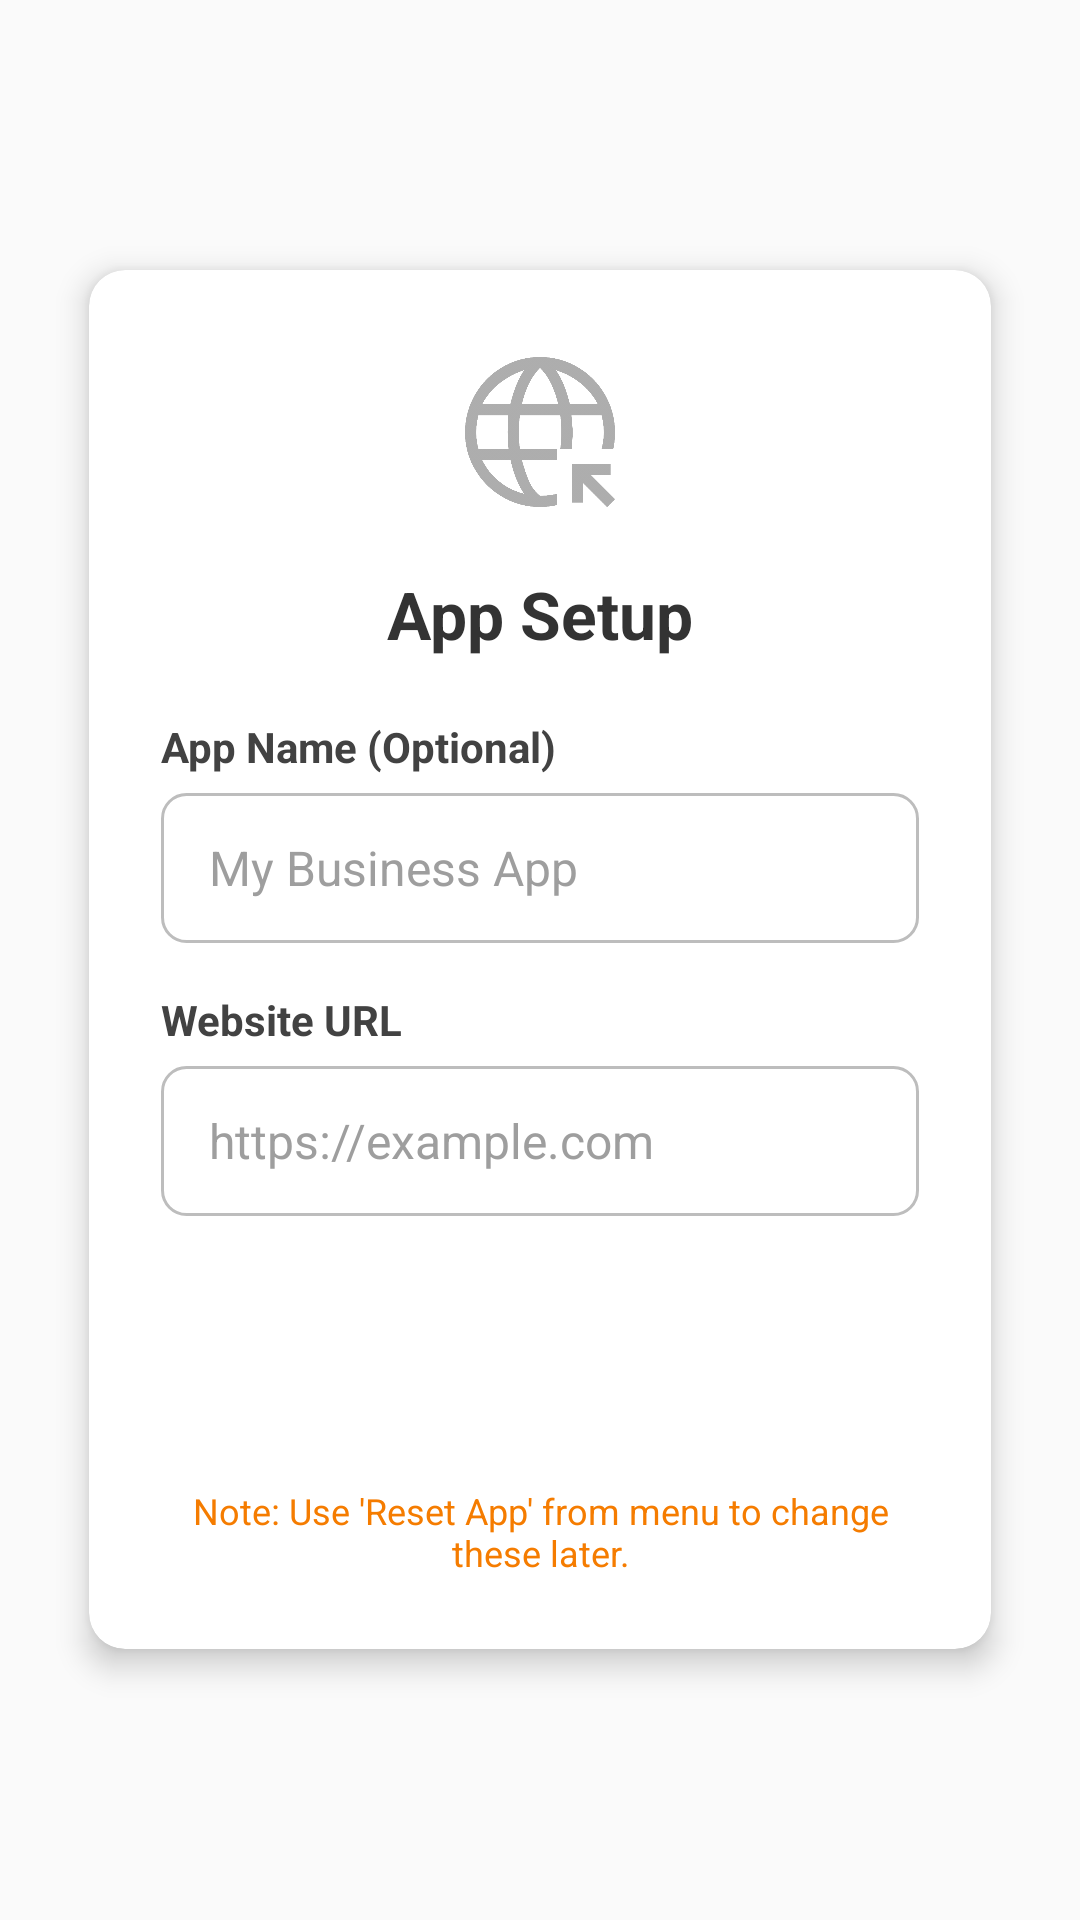

Icon bounding boxes for this 1080x1920 phone screenshot, format (x1, y1, x2, y2):
web: (465, 357, 615, 507)
